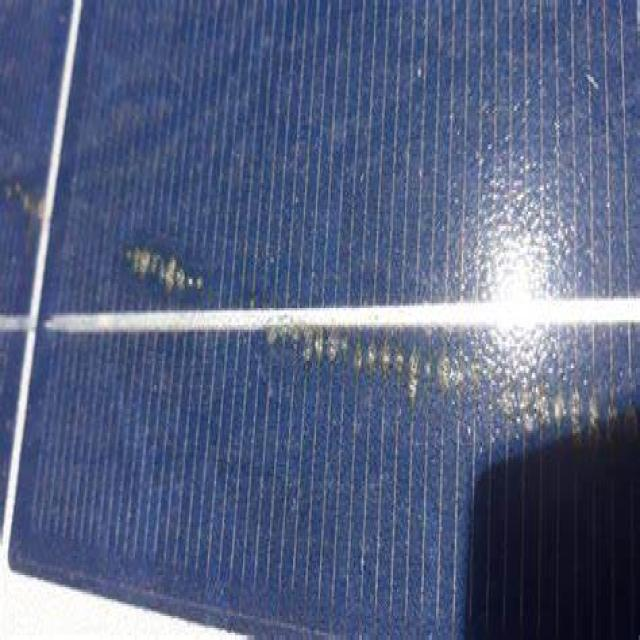Electrical-damage: (248, 286, 634, 486), (115, 232, 214, 329), (0, 157, 65, 250)
